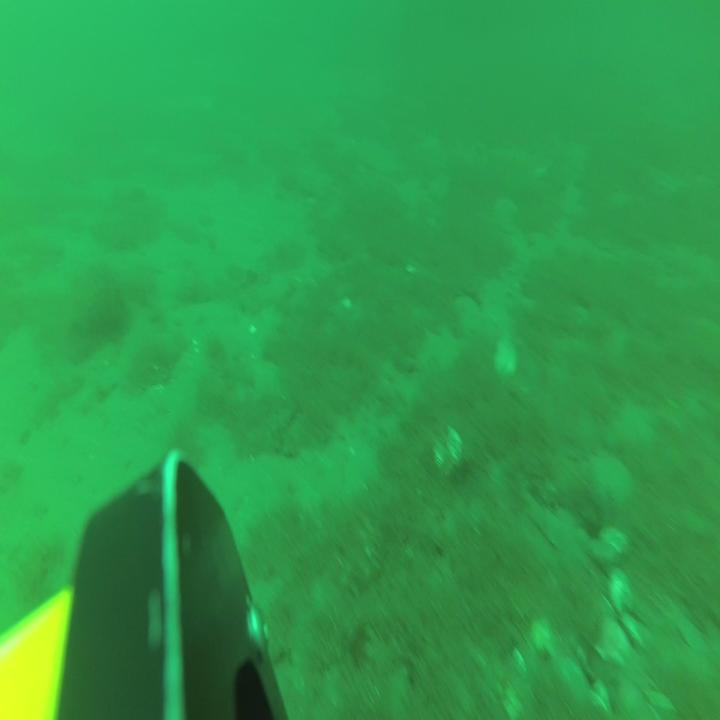scallop: (594, 616, 628, 665), (434, 426, 463, 474), (609, 569, 635, 622), (492, 340, 517, 379)
